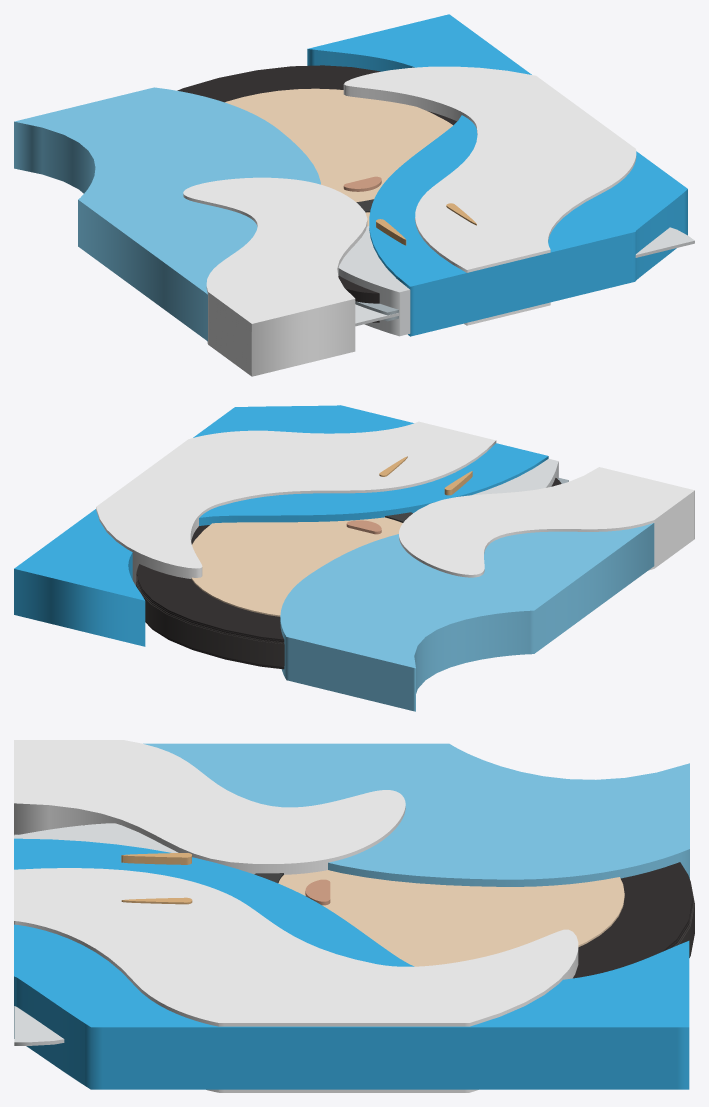
Rendered from emoji_u1f9d6_1f3fb_200d_2640.glb.
3 views of the same model, one above another, from view 1: azimuth 30°, elevation 25°; view 2: azimuth 150°, elevation 25°; view 3: azimuth 270°, elevation 25° (orthographic). The views are drawn at different scales.
Parts seen in each view (by area): view 1: emoji_u1f9d6_1f3fb_200d_2640; view 2: emoji_u1f9d6_1f3fb_200d_2640; view 3: emoji_u1f9d6_1f3fb_200d_2640.
Boxes of the visible parts, bbox=[...] form: emoji_u1f9d6_1f3fb_200d_2640: bbox=[14, 14, 694, 376]; emoji_u1f9d6_1f3fb_200d_2640: bbox=[14, 405, 694, 711]; emoji_u1f9d6_1f3fb_200d_2640: bbox=[14, 740, 694, 1092].
Size of the model in its own units: 0.0333 by 0.0042 by 0.0336.
